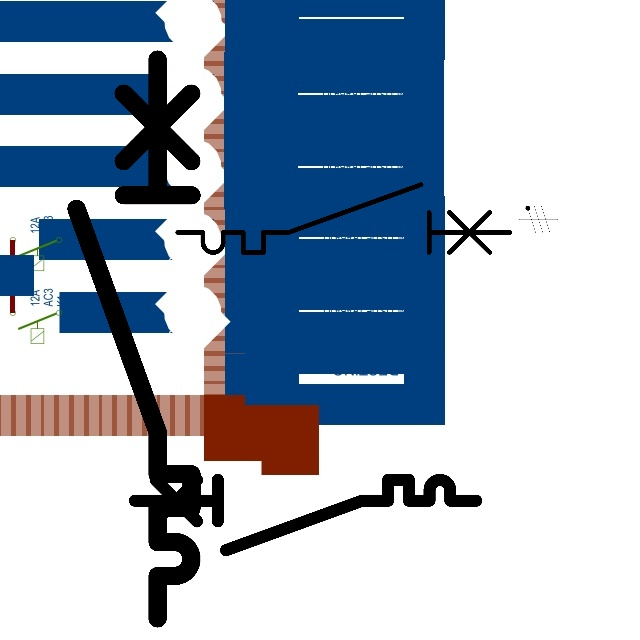interruptor_termomagnetico: (62, 45, 206, 633), (126, 471, 485, 559), (169, 176, 518, 261)
